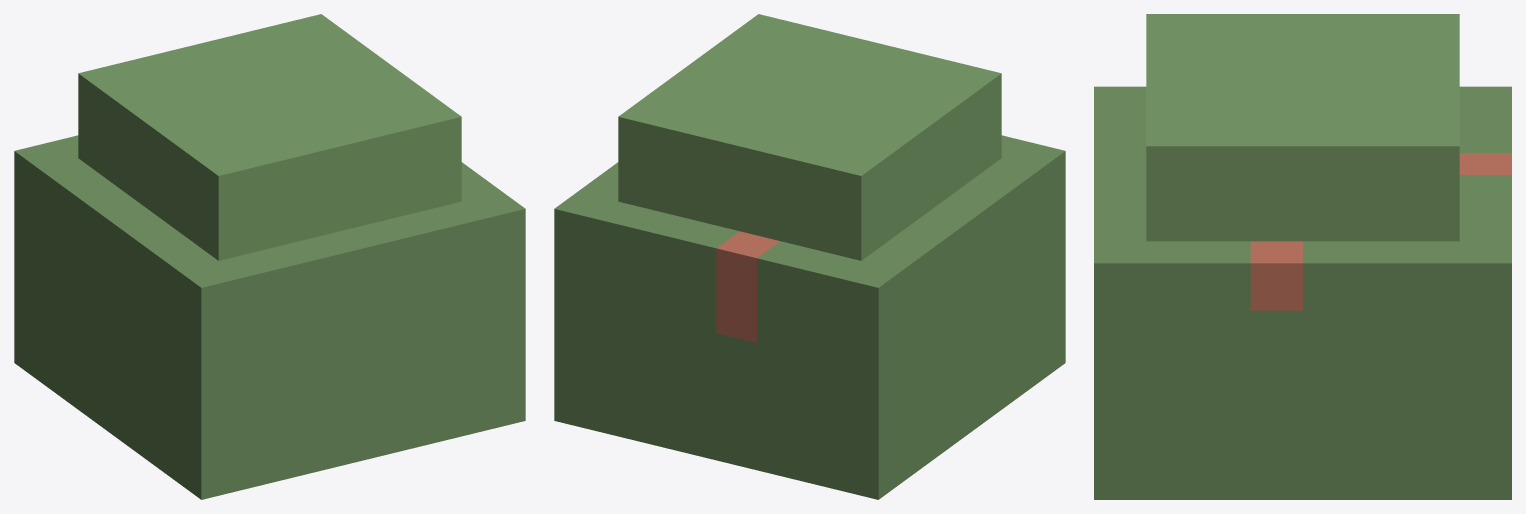
File: escaramujo_02.glb
3 views of the same model, side by side, from view 1: azimuth 30°, elevation 25°; view 2: azimuth 150°, elevation 25°; view 3: azimuth 270°, elevation 25° (orthographic). The views are drawn at different scales.
Parts seen in each view (by area): view 1: escaramujo_02; view 2: escaramujo_02; view 3: escaramujo_02.
Part boxes in pixels (x1,y1,x2,y2): escaramujo_02: (14, 14, 525, 499); escaramujo_02: (554, 14, 1065, 499); escaramujo_02: (1094, 14, 1511, 499).
Size of the model in its own units: 0.8 by 0.7 by 0.8.
